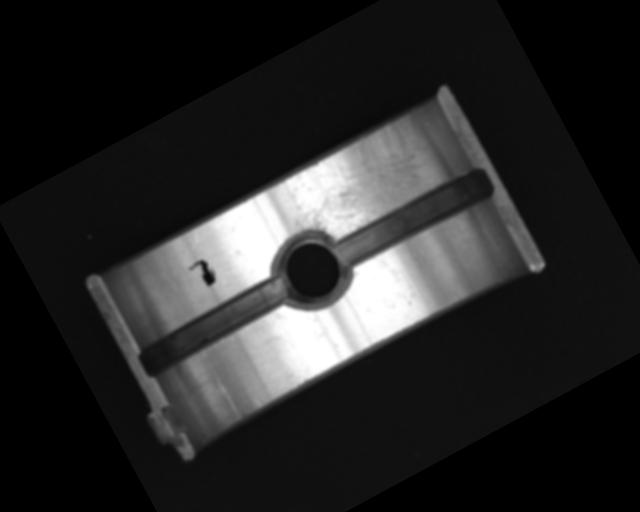blot: (187, 255, 220, 291)
gap: (330, 162, 497, 274), (134, 273, 293, 378)
hole: (260, 220, 358, 317)
nick: (212, 373, 243, 419)
scratch: (267, 111, 449, 258)
